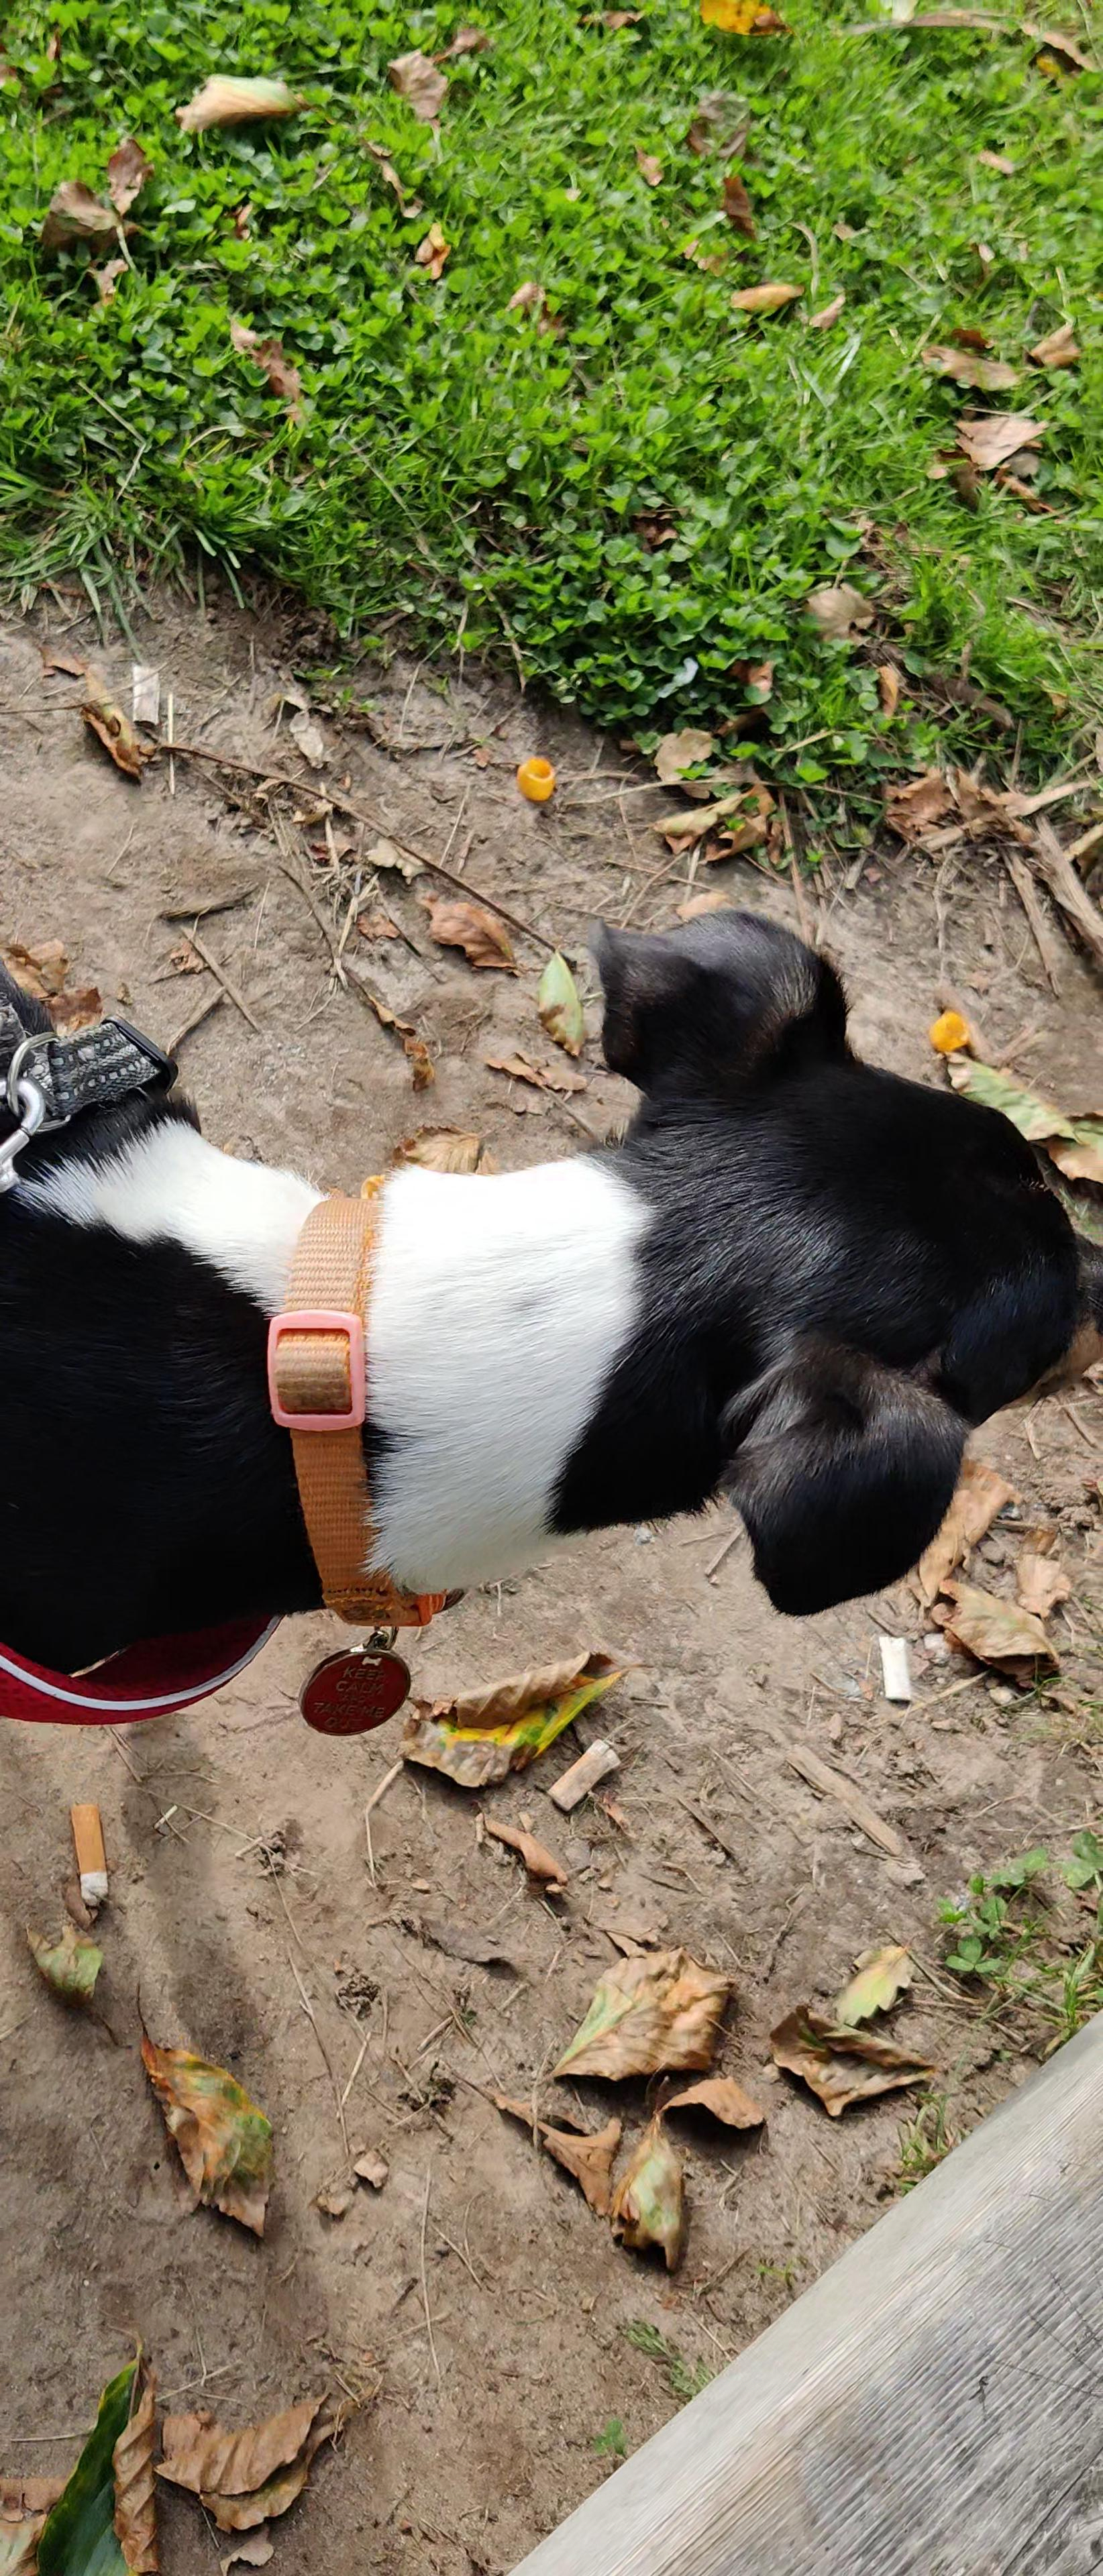Dog: (0, 900, 1103, 1745)
